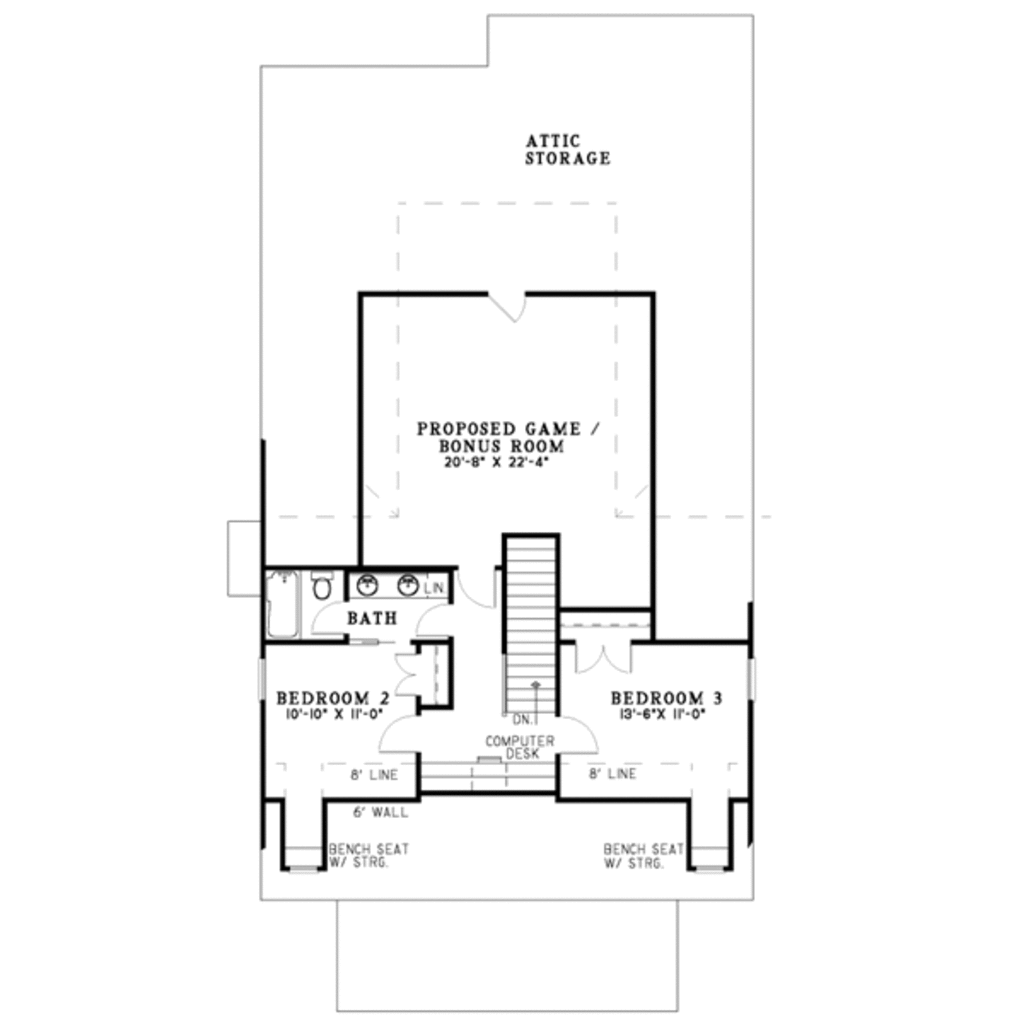door: (564, 641, 644, 682), (364, 708, 420, 761), (394, 636, 438, 702), (488, 282, 541, 332), (311, 597, 361, 635), (459, 571, 502, 613), (559, 719, 603, 755), (417, 600, 452, 642)
large_sink: (303, 567, 339, 599)
small_sink: (348, 575, 448, 600)
stairs: (506, 535, 567, 711)
tub: (264, 567, 305, 642)
window: (284, 855, 325, 877), (691, 858, 727, 874)
